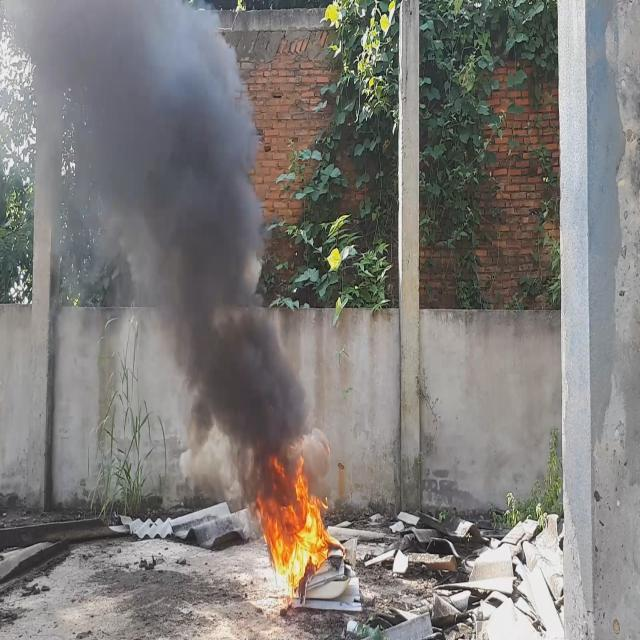Fire: (257, 457, 330, 599)
Smoke: (0, 0, 314, 520)
